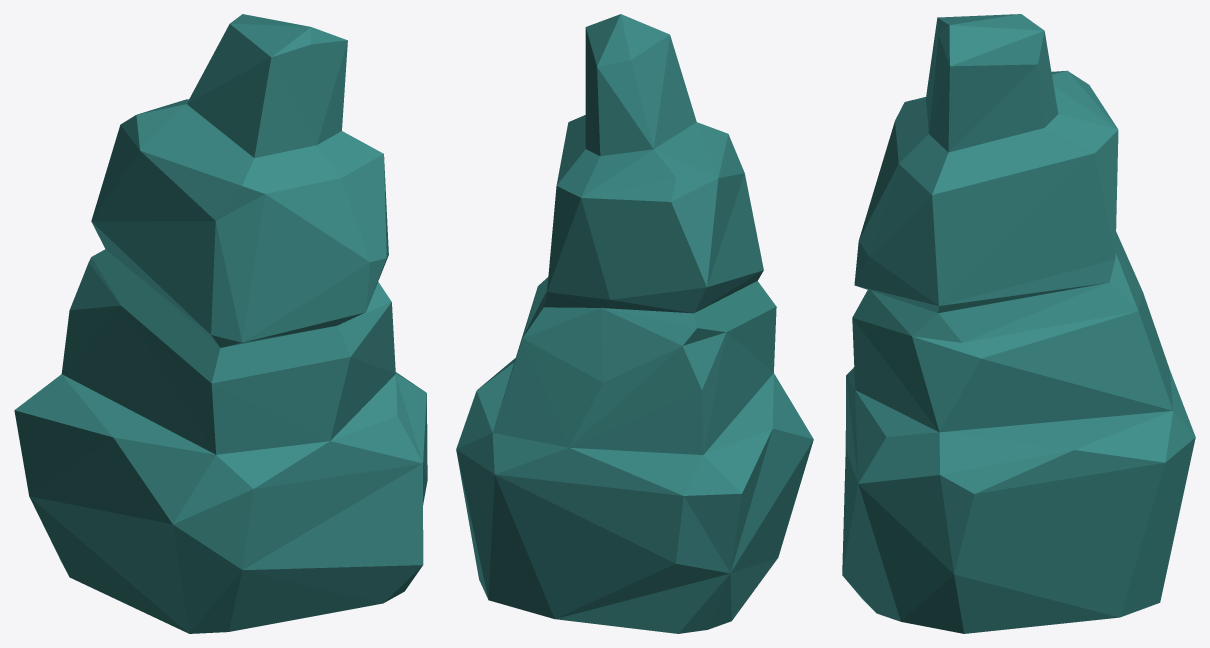
File: SM_Rock_Sea_Pillar_Lava_Small_A.fbx
3 renders of one model, left to right at view 1: azimuth 30°, elevation 25°; view 2: azimuth 150°, elevation 25°; view 3: azimuth 270°, elevation 25°, orthographic. The views are drawn at different scales.
Visible parts, largest first — view 1: rock-sea-pillar-lava-small-a; view 2: rock-sea-pillar-lava-small-a; view 3: rock-sea-pillar-lava-small-a.
Boxes of the visible parts, left/top/right/bottom form: rock-sea-pillar-lava-small-a: left=14, top=14, right=427, bottom=633; rock-sea-pillar-lava-small-a: left=456, top=14, right=813, bottom=633; rock-sea-pillar-lava-small-a: left=842, top=14, right=1195, bottom=633.
Bounding box in the file's own units: 1.23 × 1.97 × 1.12.
